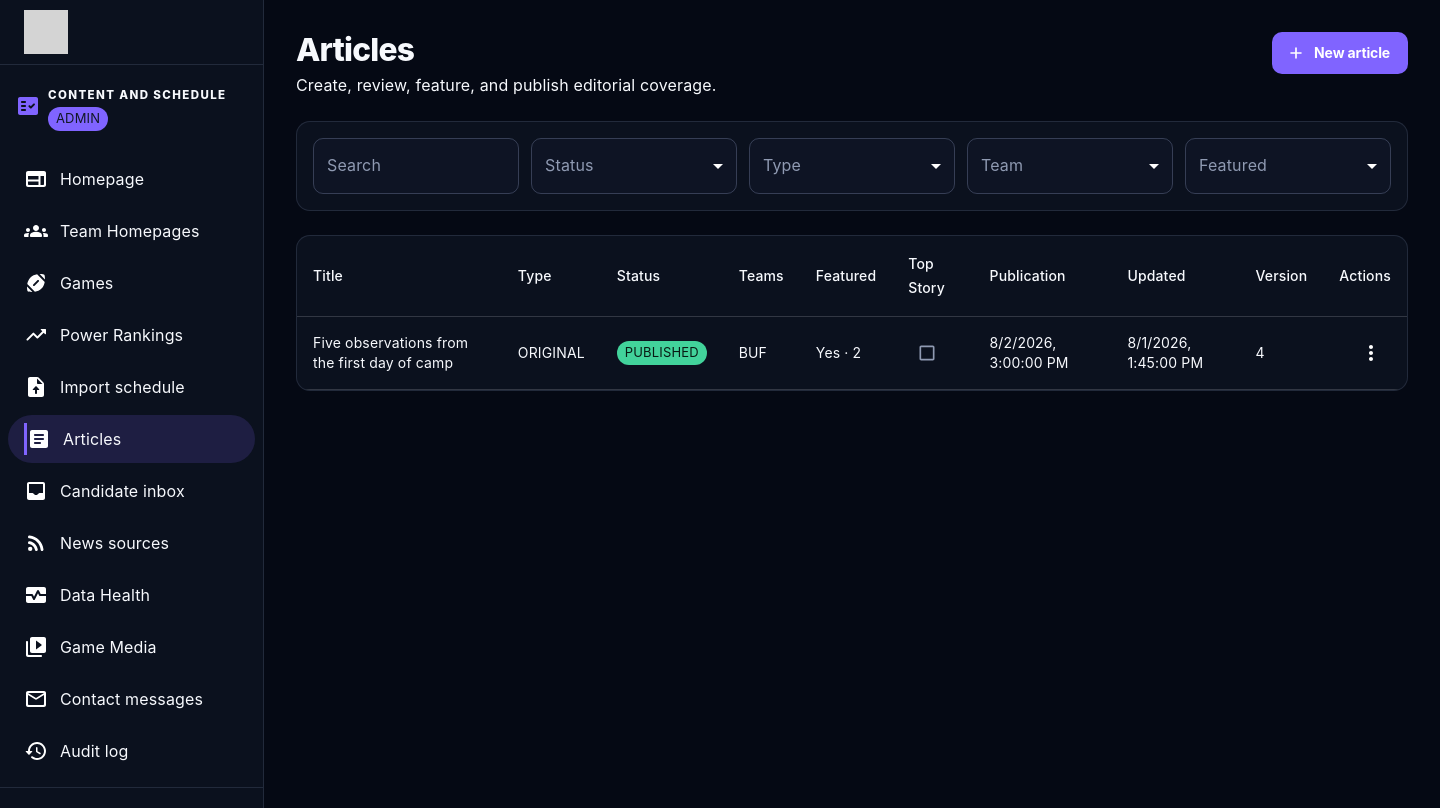
Scenario: Admin Article actions › shows permanent deletion to ADMIN users
The width and height of the screenshot is (1440, 808).
Click the button named "Open actions for Five observations from the first day of cam". click: click(1371, 353)
box: [1351,333,1391,373]
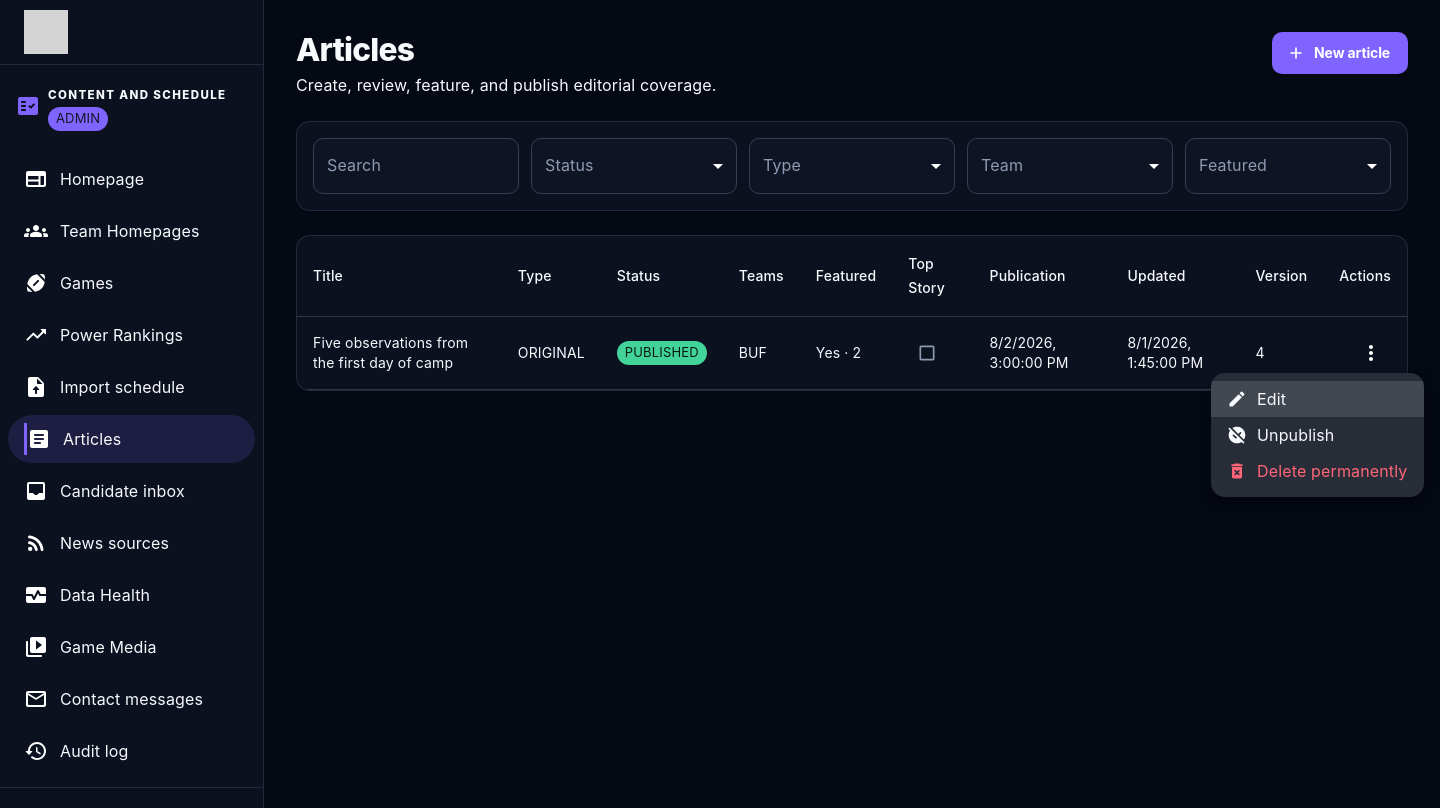
expect the menu item "Delete permanently" is shown: met, box [1227,461,1408,481]
